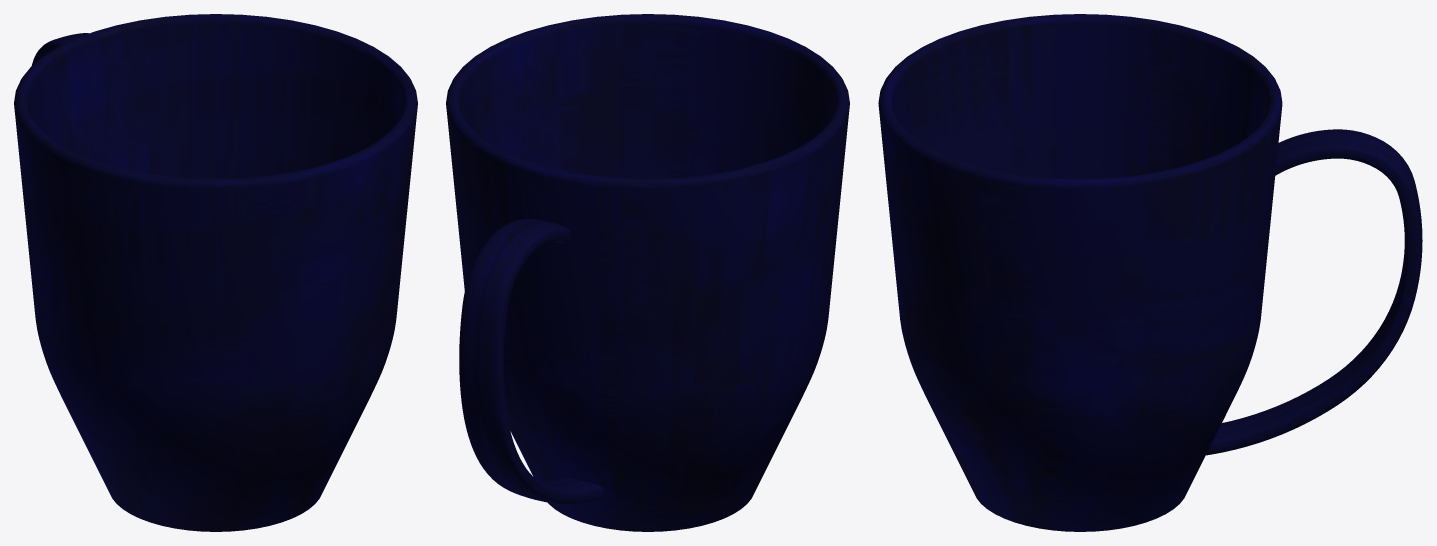
The picture shows the model from 3 angles, left to right: view 1: azimuth 30°, elevation 25°; view 2: azimuth 150°, elevation 25°; view 3: azimuth 270°, elevation 25°; orthographic projection.
Visible parts, largest first — view 1: mesh1_mesh1-geometry; view 2: mesh1_mesh1-geometry, mesh2_mesh2-geometry; view 3: mesh1_mesh1-geometry, mesh2_mesh2-geometry.
Part boxes in pixels (x1=…): mesh1_mesh1-geometry: x1=14, y1=14, x2=417, y2=531; mesh1_mesh1-geometry: x1=446, y1=14, x2=849, y2=531; mesh2_mesh2-geometry: x1=459, y1=218, x2=604, y2=504; mesh1_mesh1-geometry: x1=878, y1=14, x2=1282, y2=531; mesh2_mesh2-geometry: x1=1206, y1=129, x2=1422, y2=455.
Bounding box in the file's own units: 0.5031 × 0.5366 × 0.6775.
Materials: 1 (1 with a texture image).
